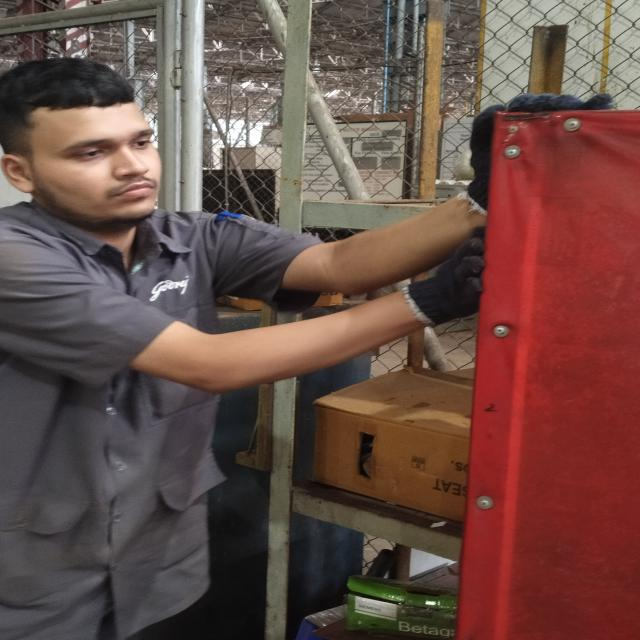Gloves-Detection: (460, 110, 579, 187), (405, 283, 490, 317)
